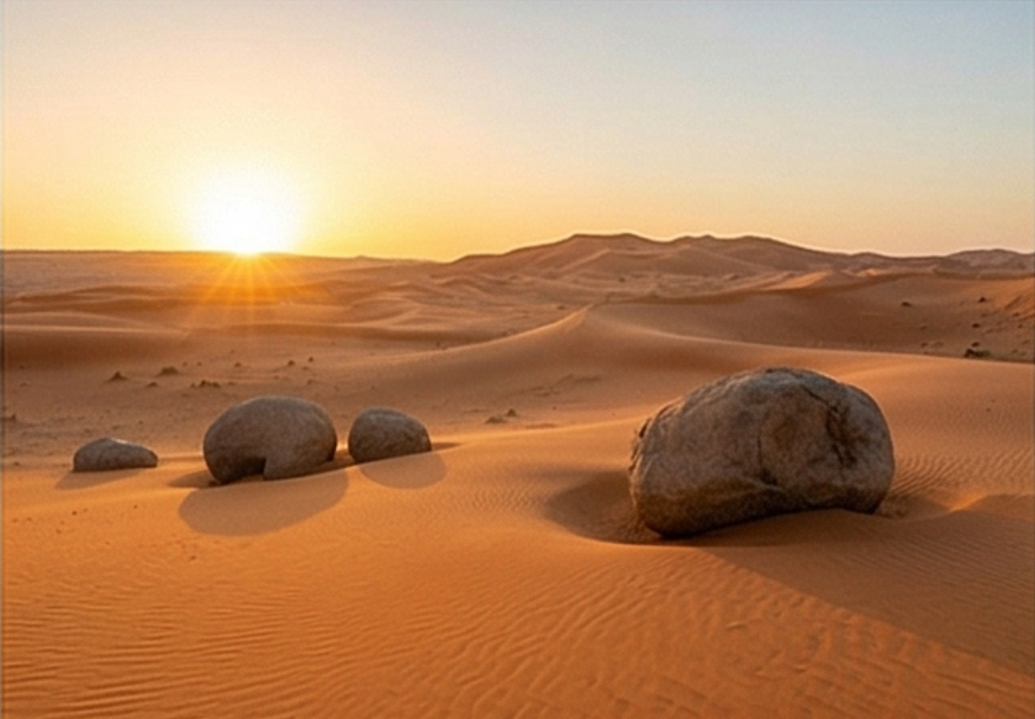rocks: (630, 367, 893, 536), (203, 396, 337, 484), (350, 408, 430, 462), (74, 438, 157, 471)
